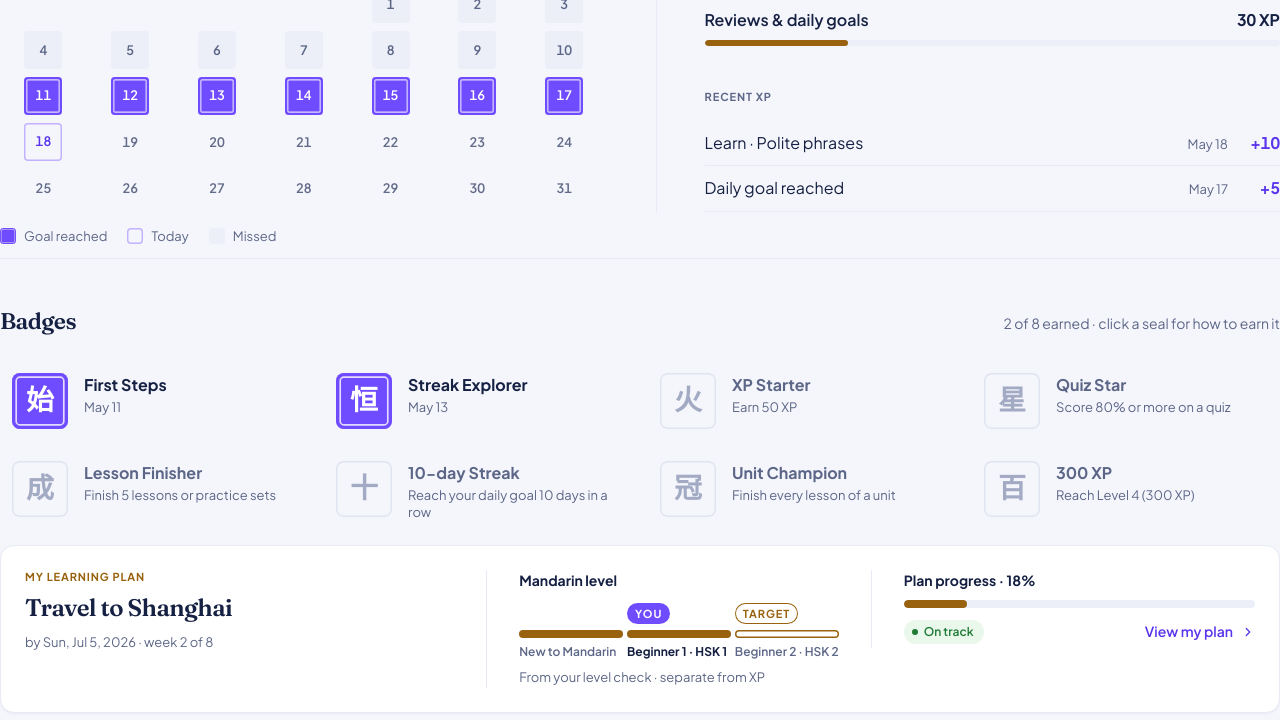
Test: StudentProgressPage › stamps earned badges and greys the rest, and opens a badge to show how it is earned
(page scrolled)
Expected: the text with class "seal" reads "始", [26,384,54,416]
Expected: the element with test id "badges" shows "2 of 8 earned", [1004,314,1279,332]
Click the button with test id "badge-XP_STARTER".
click(688, 401)  # box [648,360,956,440]
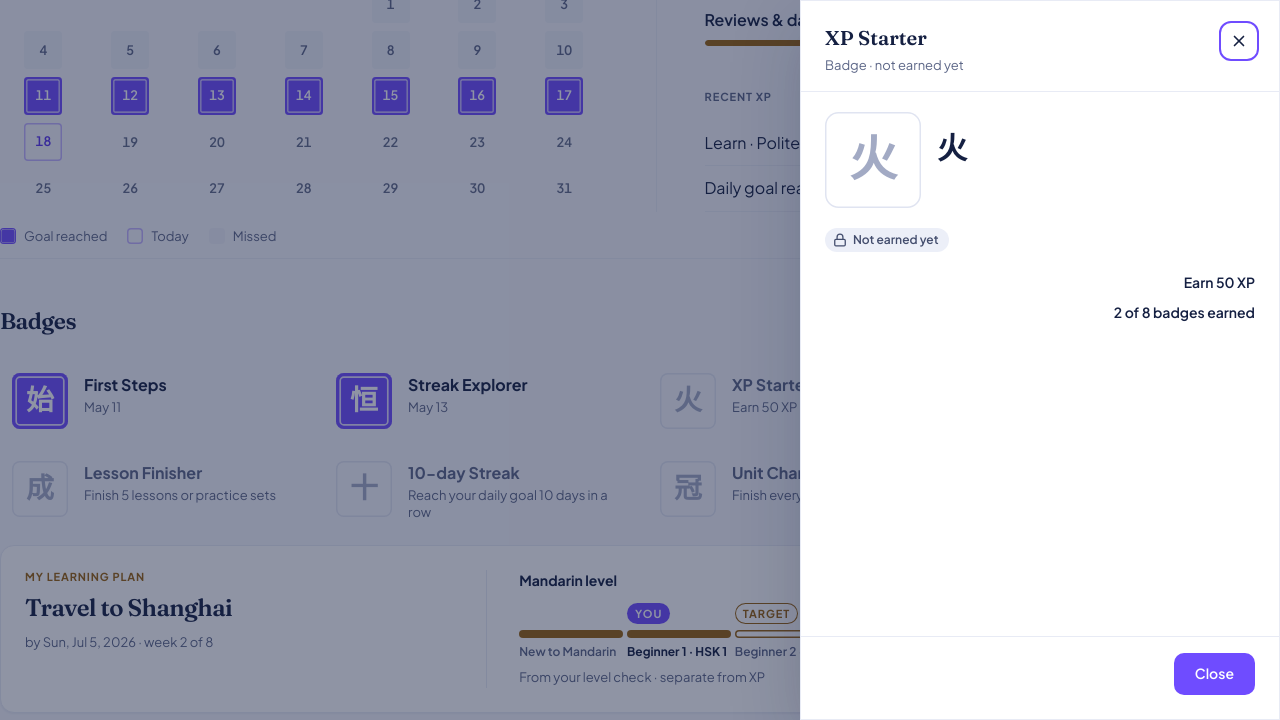
Now the dialog with test id "badge-detail" shows "XP Starter", box [825,25,927,50]
Now the dialog with test id "badge-detail" shows "not earned yet", box [853,232,939,247]
